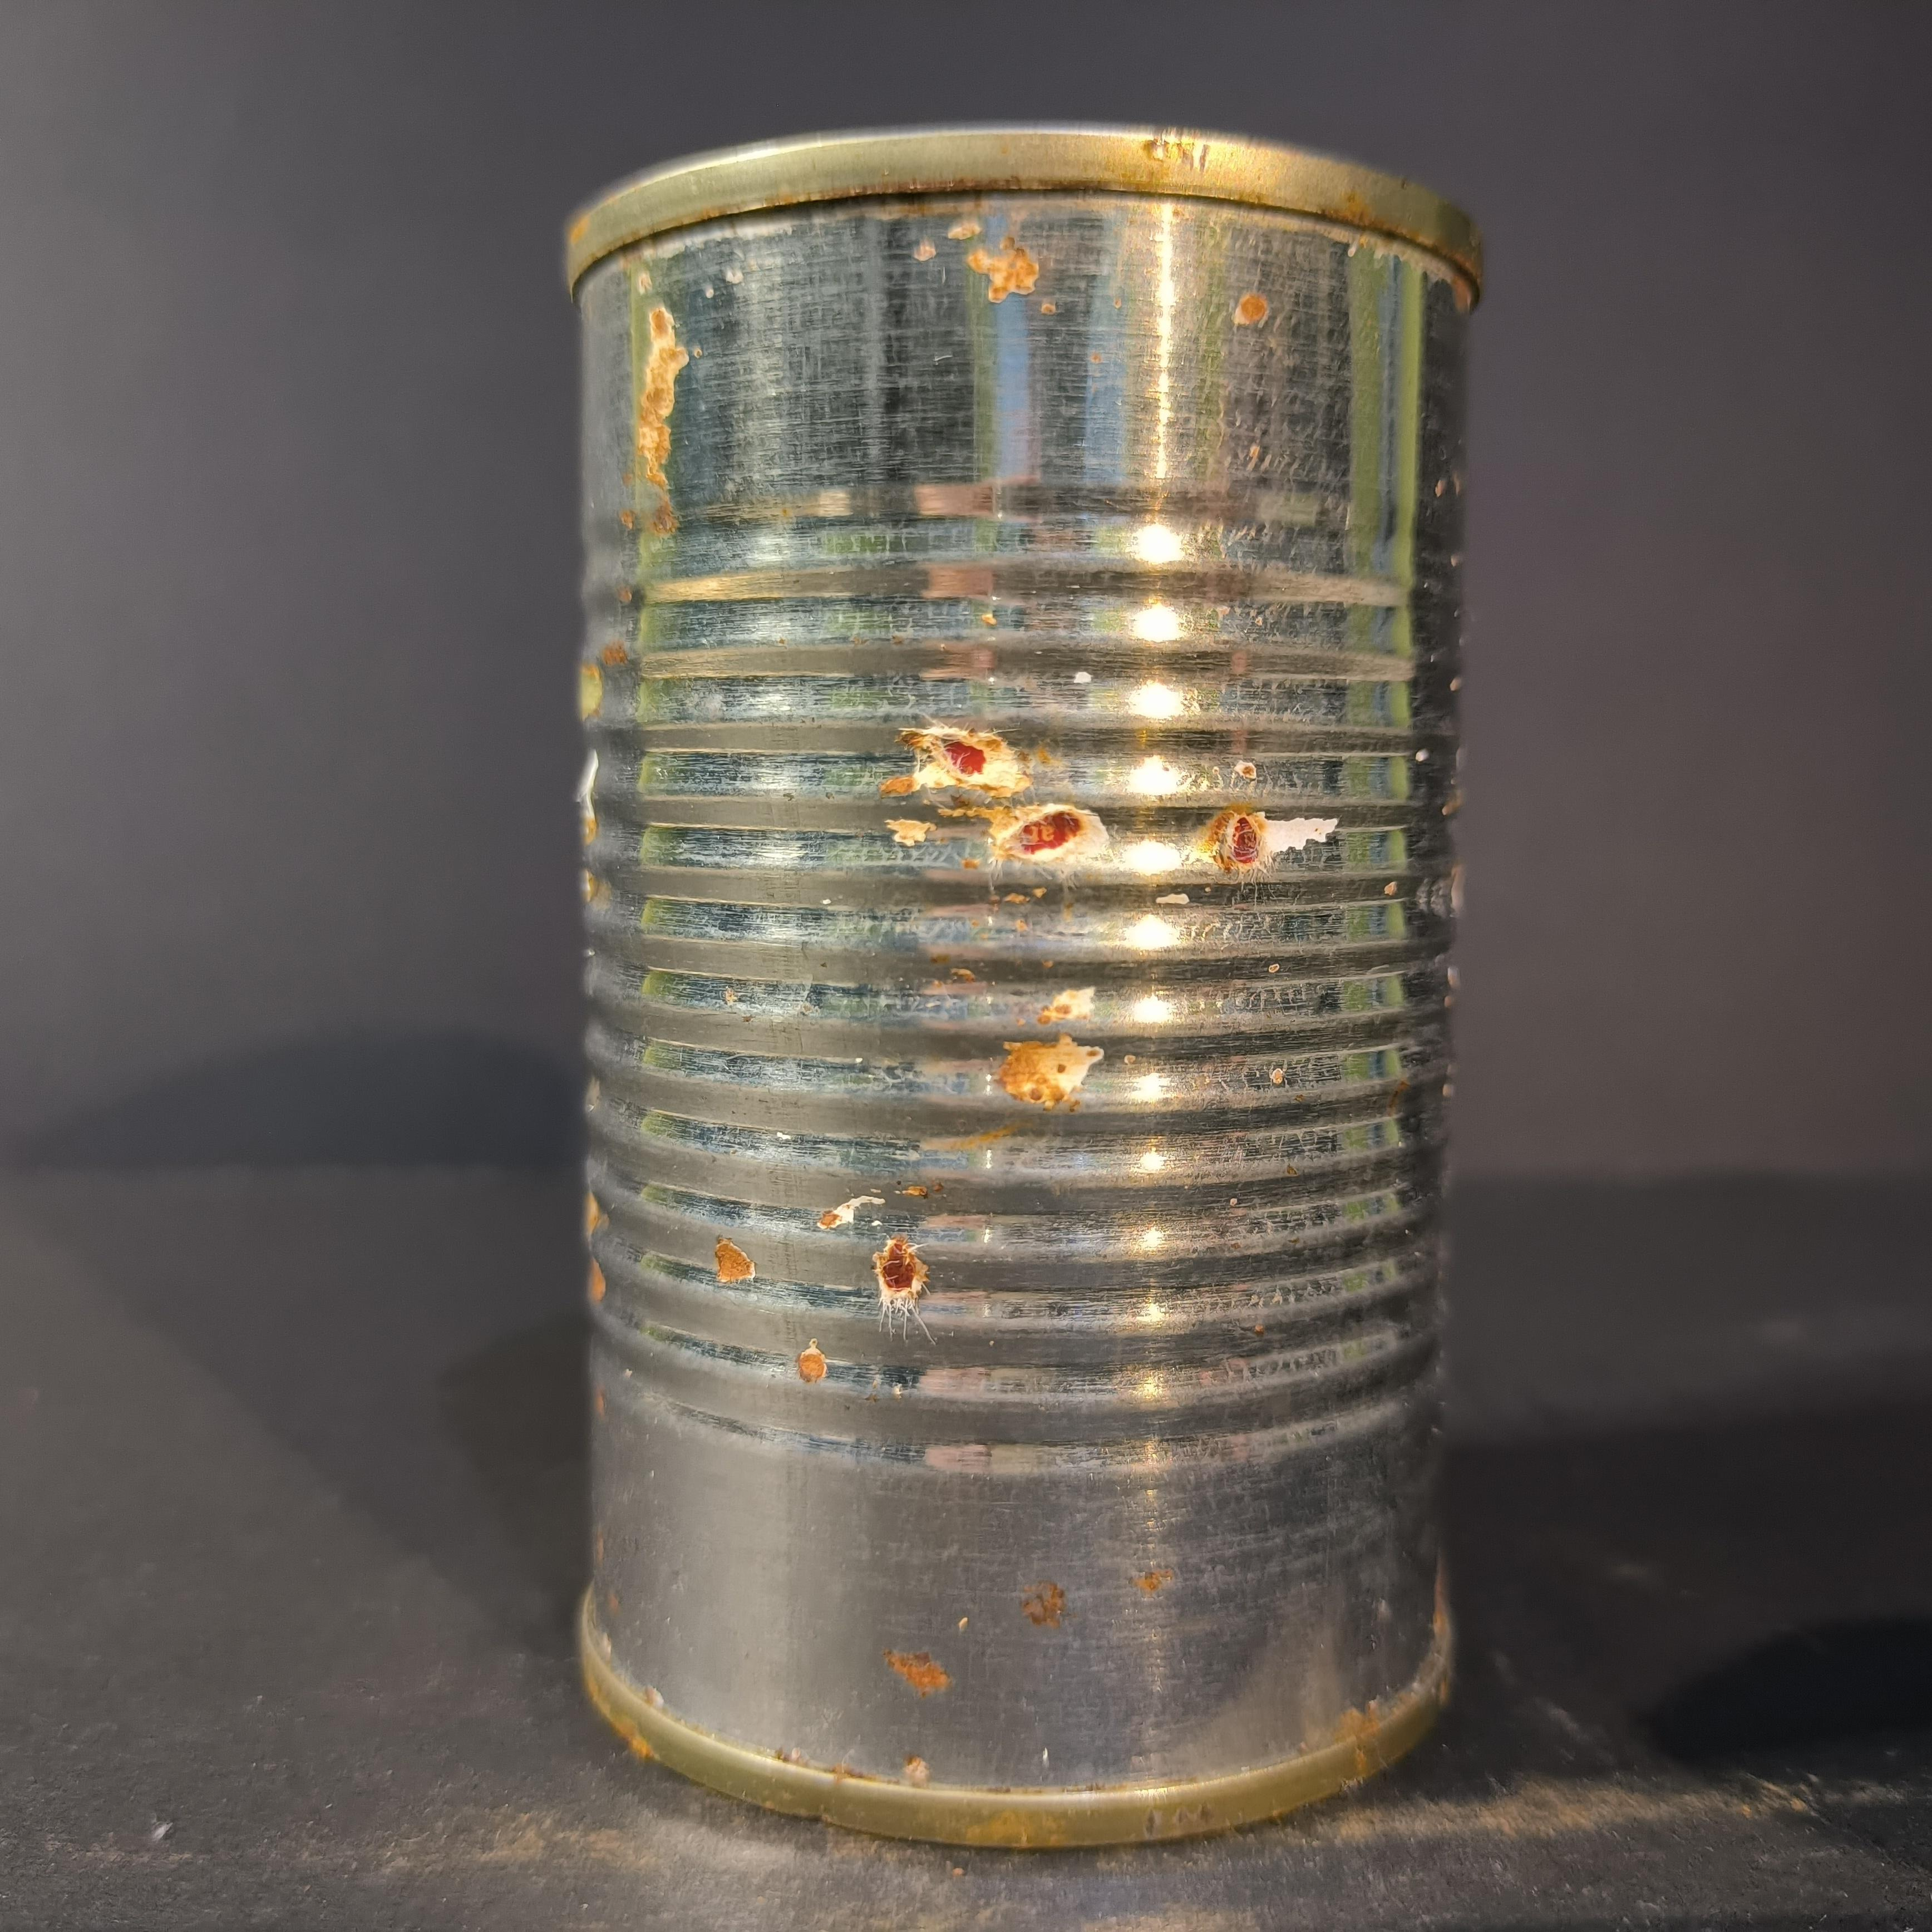Rusted: (540, 70, 1497, 1881)
